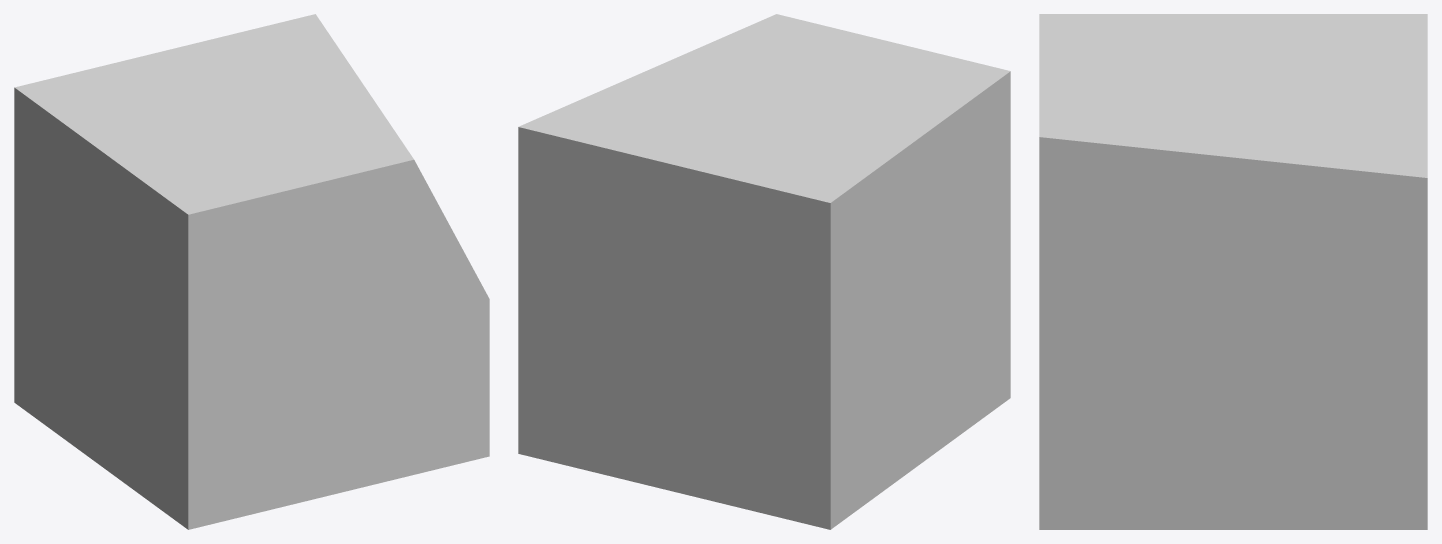
The model's file is r5c4_body_light_grey.gltf.
3 views of the same model, side by side, from view 1: azimuth 30°, elevation 25°; view 2: azimuth 150°, elevation 25°; view 3: azimuth 270°, elevation 25° (orthographic). The views are drawn at different scales.
Visible parts, largest first — view 1: r5c4_body_light_grey; view 2: r5c4_body_light_grey; view 3: r5c4_body_light_grey.
Part boxes in pixels (x1,y1,x2,y2): r5c4_body_light_grey: (14,14,489,529); r5c4_body_light_grey: (518,14,1010,529); r5c4_body_light_grey: (1039,14,1427,529).
Size of the model in its own units: 2 by 2 by 2.
1 material, 1 textured.
